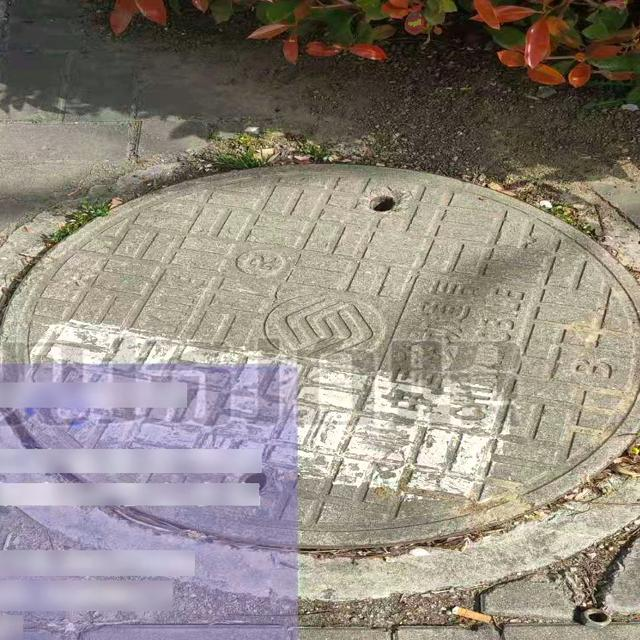circle: (0, 143, 640, 583)
